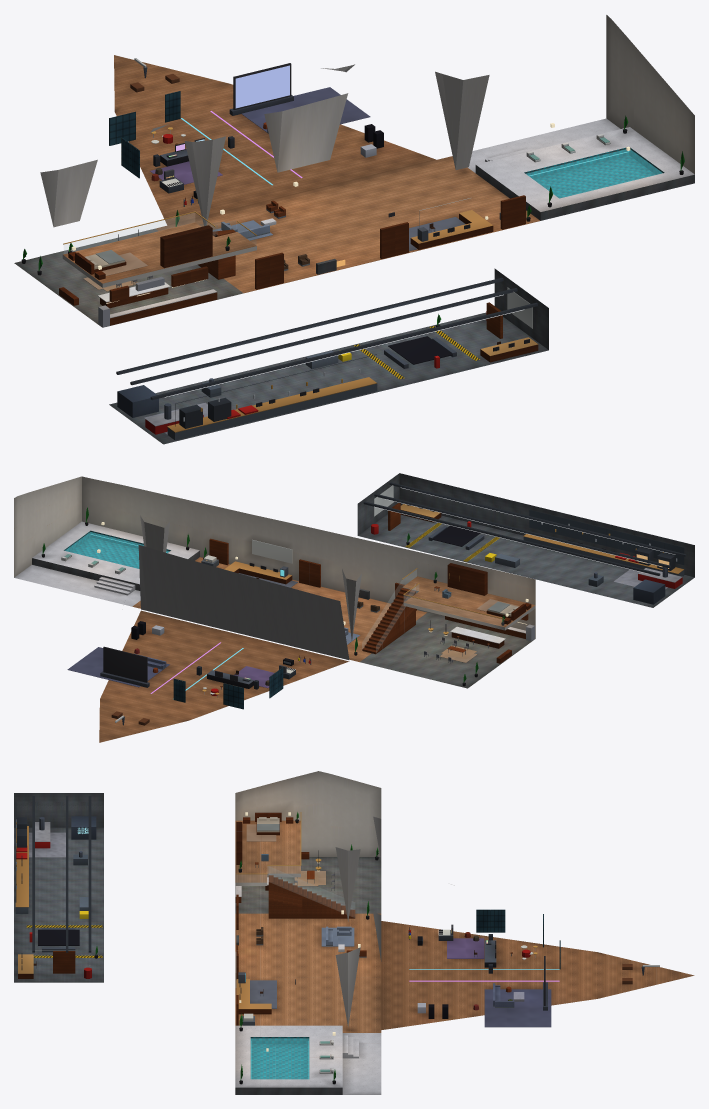
File: ariel-home-interior.glb
3 renders of one model, top to bottom at view 1: azimuth 30°, elevation 25°; view 2: azimuth 150°, elevation 25°; view 3: azimuth 270°, elevation 25°, orthographic. The views are drawn at different scales.
Visible parts, largest first — view 1: MansionInterior; view 2: MansionInterior; view 3: MansionInterior.
Boxes of the visible parts, bbox=[...] form: MansionInterior: bbox=[14, 15, 694, 444]; MansionInterior: bbox=[14, 473, 694, 742]; MansionInterior: bbox=[14, 771, 694, 1094].
Size of the model in its own units: 152 by 23.26 by 163.
Materials: 3 (1 with a texture image).
